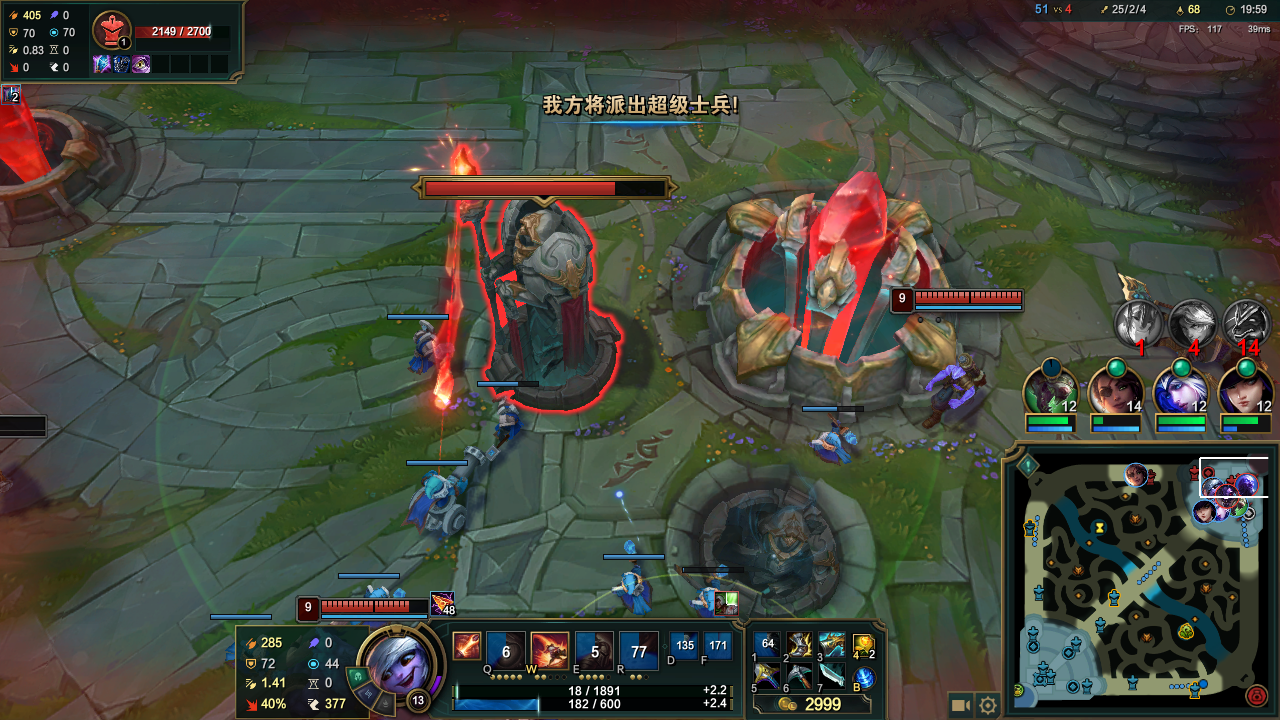DFDSJ: (709, 173, 914, 373)
DFFYT: (455, 201, 647, 411)
DFYX: (918, 288, 1020, 317)
WFXB: (407, 450, 488, 549), (479, 395, 549, 455), (600, 538, 662, 604), (808, 423, 875, 474), (397, 321, 455, 378)
